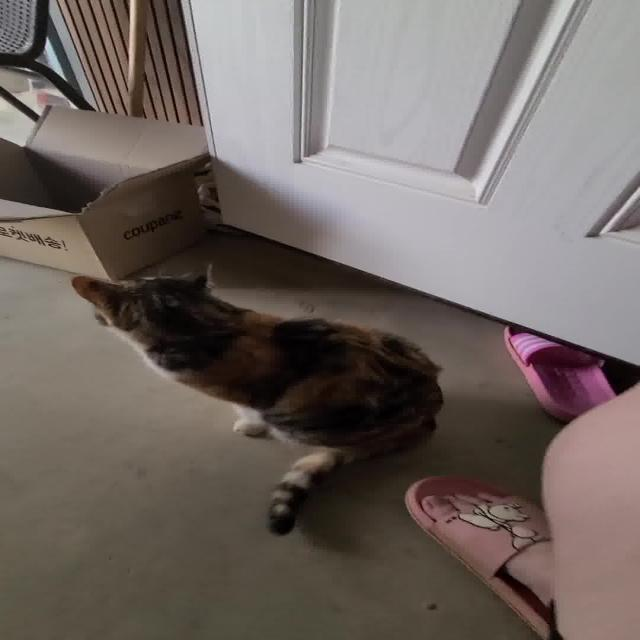cat: (64, 258, 450, 538)
